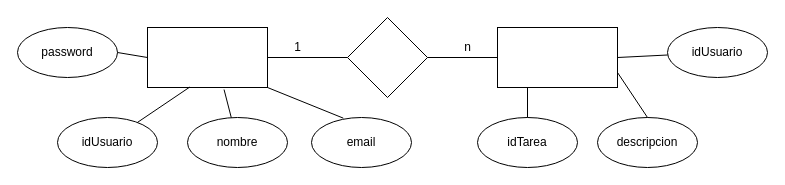
This 785x185 diagram has some shape labels left out. Here are the shapes that lost their labels. From the top down, the box of each, then its label:
(146, 26, 268, 88): Usuario
(496, 26, 618, 88): Tarea
